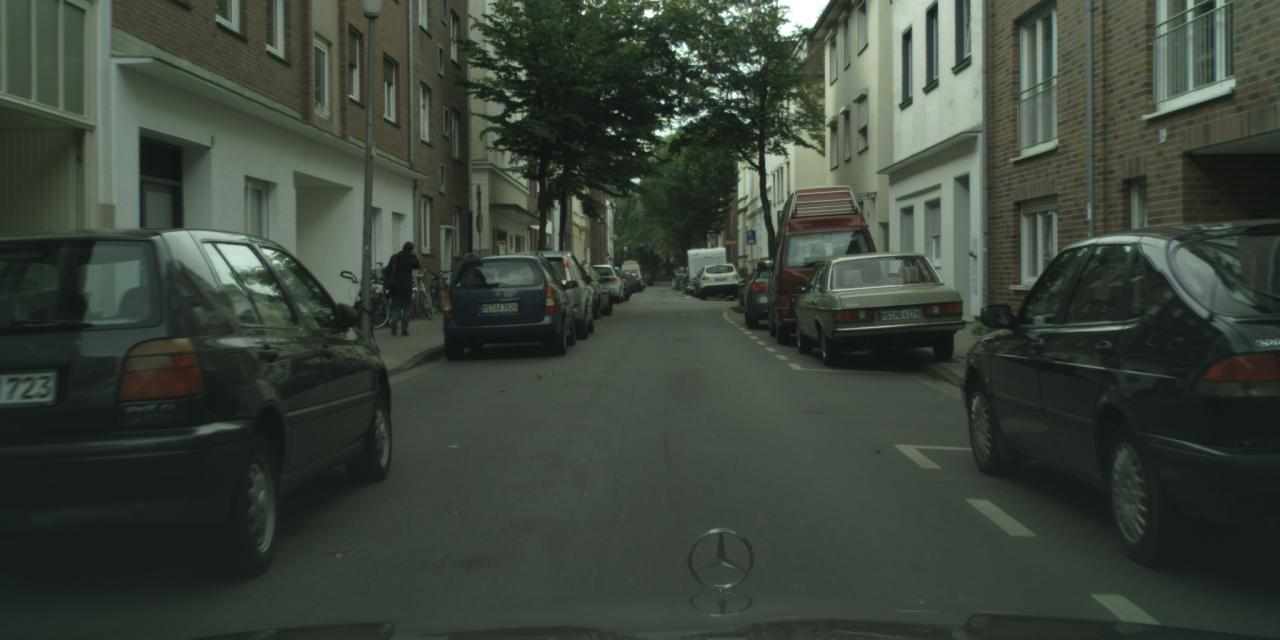ped: (385, 241, 423, 333)
